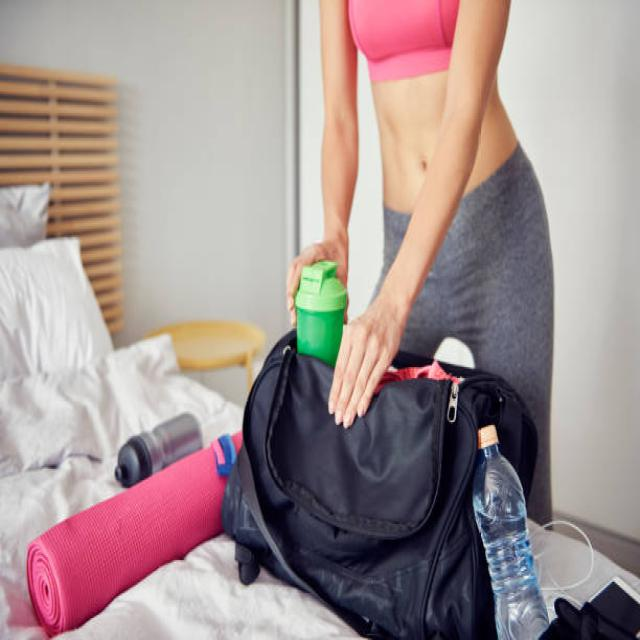article: (473, 425, 548, 637), (296, 260, 346, 365)
bags: (224, 331, 536, 638)
hands: (327, 290, 406, 427), (285, 234, 346, 323), (345, 307, 346, 320)
person: (285, 0, 552, 516)
